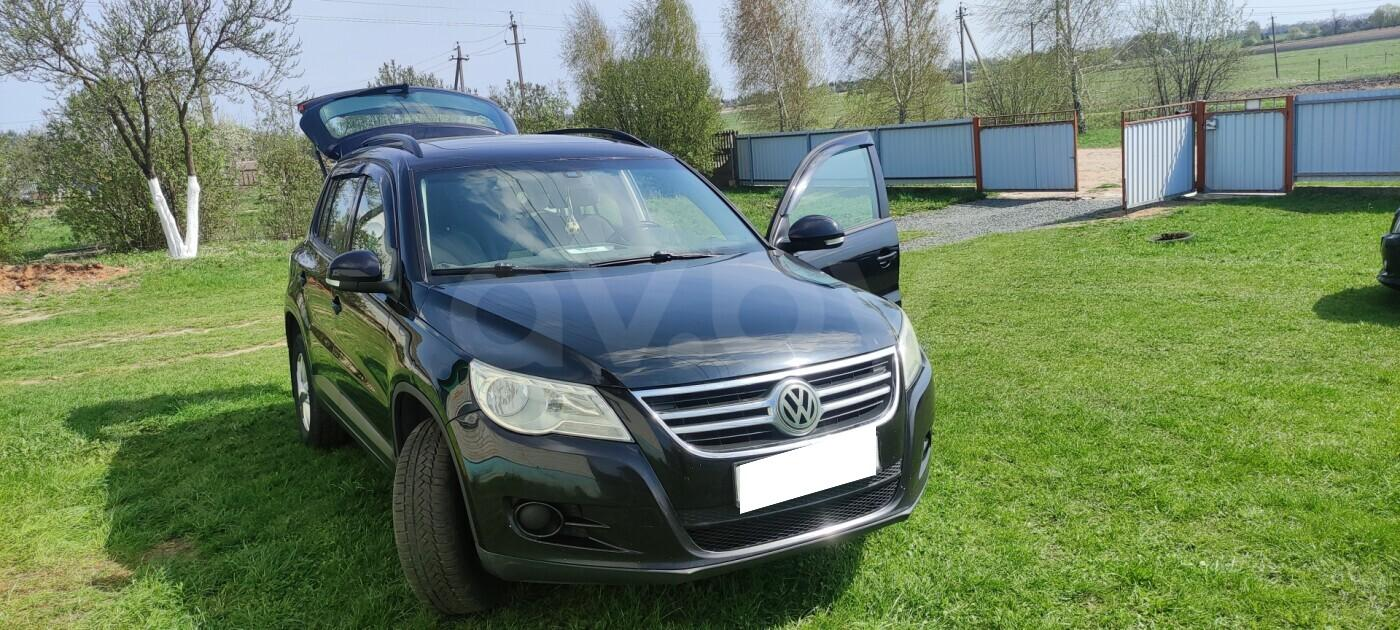Tiguan_2007-2011: (281, 129, 936, 613)
